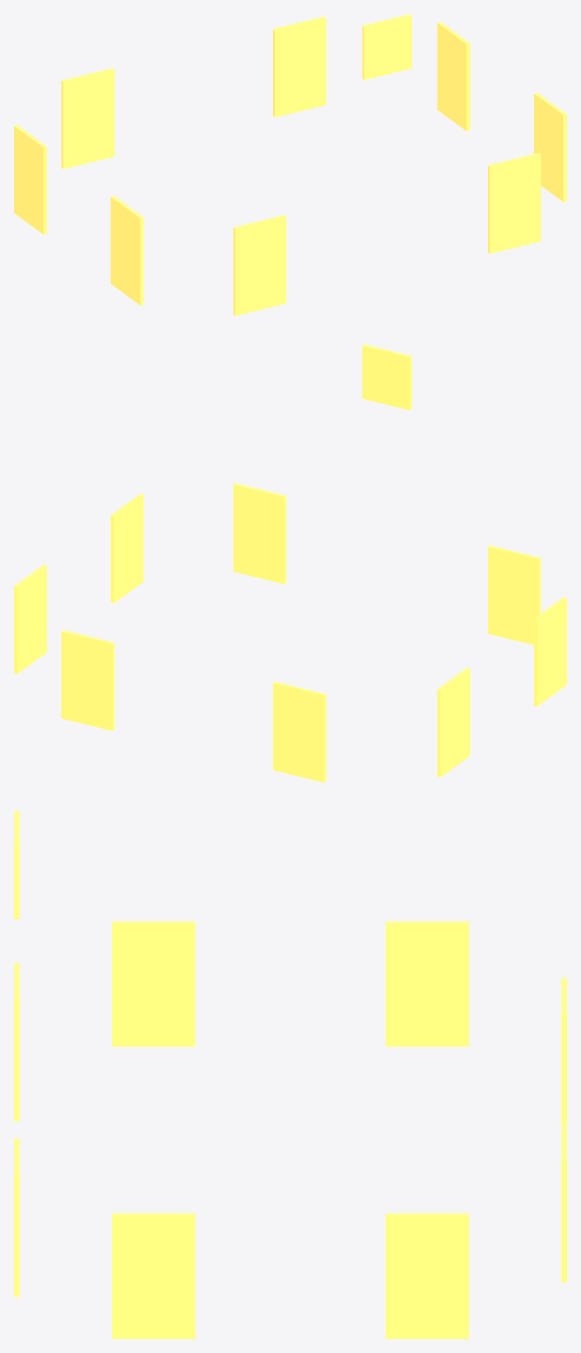
File: CandyHouse_Pink_Glow.glb
3 renders of one model, top to bottom at view 1: azimuth 30°, elevation 25°; view 2: azimuth 150°, elevation 25°; view 3: azimuth 270°, elevation 25°, orthographic. The views are drawn at different scales.
Visible parts, largest first — view 1: CandyHouse_Pink_Glow; view 2: CandyHouse_Pink_Glow; view 3: CandyHouse_Pink_Glow.
Part boxes in pixels (x1,y1,x2,y2): CandyHouse_Pink_Glow: (14,14,566,315); CandyHouse_Pink_Glow: (14,344,566,782); CandyHouse_Pink_Glow: (14,811,566,1338).
Bounding box in the file's own units: 24.2 × 13.95 × 19.2.
